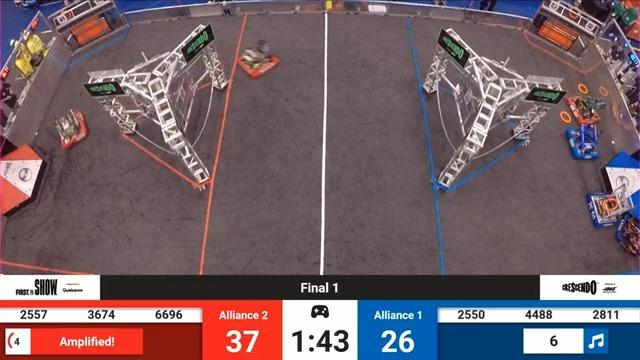robot: (229, 34, 281, 81), (585, 179, 634, 228), (561, 122, 608, 166), (50, 105, 97, 147), (570, 86, 604, 126), (612, 213, 640, 257)
